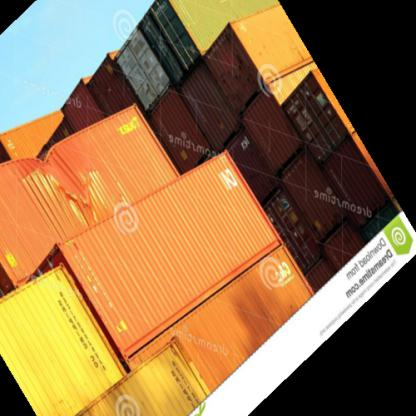Damage: (27, 136, 97, 207)
